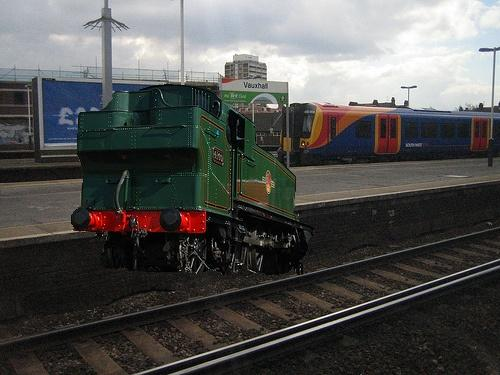tampered: (71, 85, 314, 275)
